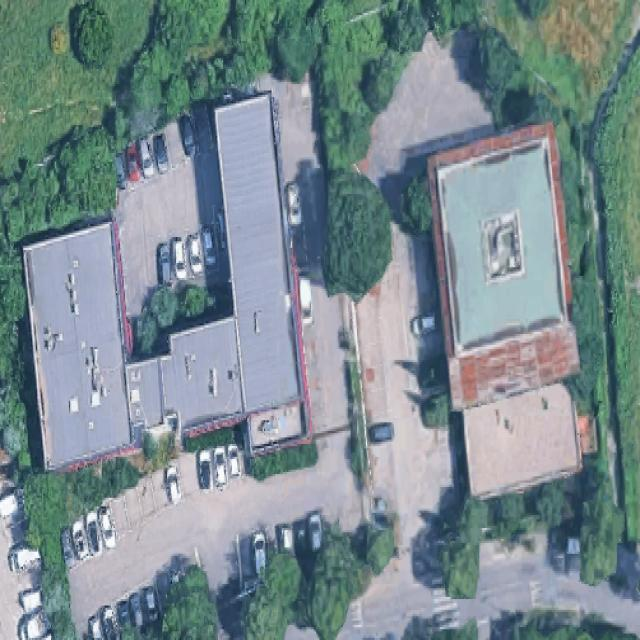immeuble: (419, 125, 593, 499), (212, 89, 312, 453), (17, 215, 141, 468), (120, 319, 248, 443)
